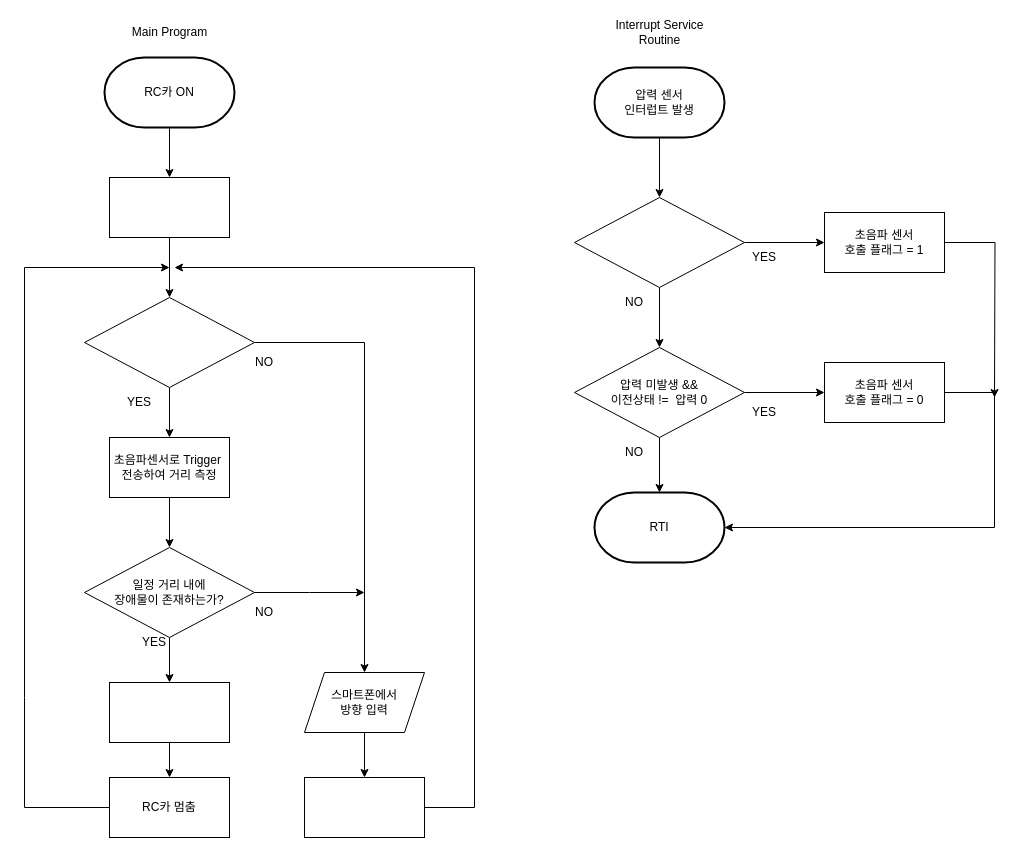
Image size: 1021x855. Some labels were removed from this diagram. Here are the shapes that lost their labels. From the top down, the centre of each, then its label:
At (169,207): "RC카와 스마트폰 블루투스 연결".
At (659,242): "압력 발생 && 이전상태 == 압력 0".
At (169,342): "초음파 센서 호출 플래그 == 1".
At (169,712): "부저 울림, 스마트폰에 알림".
At (364,807): "RC카 이동".
